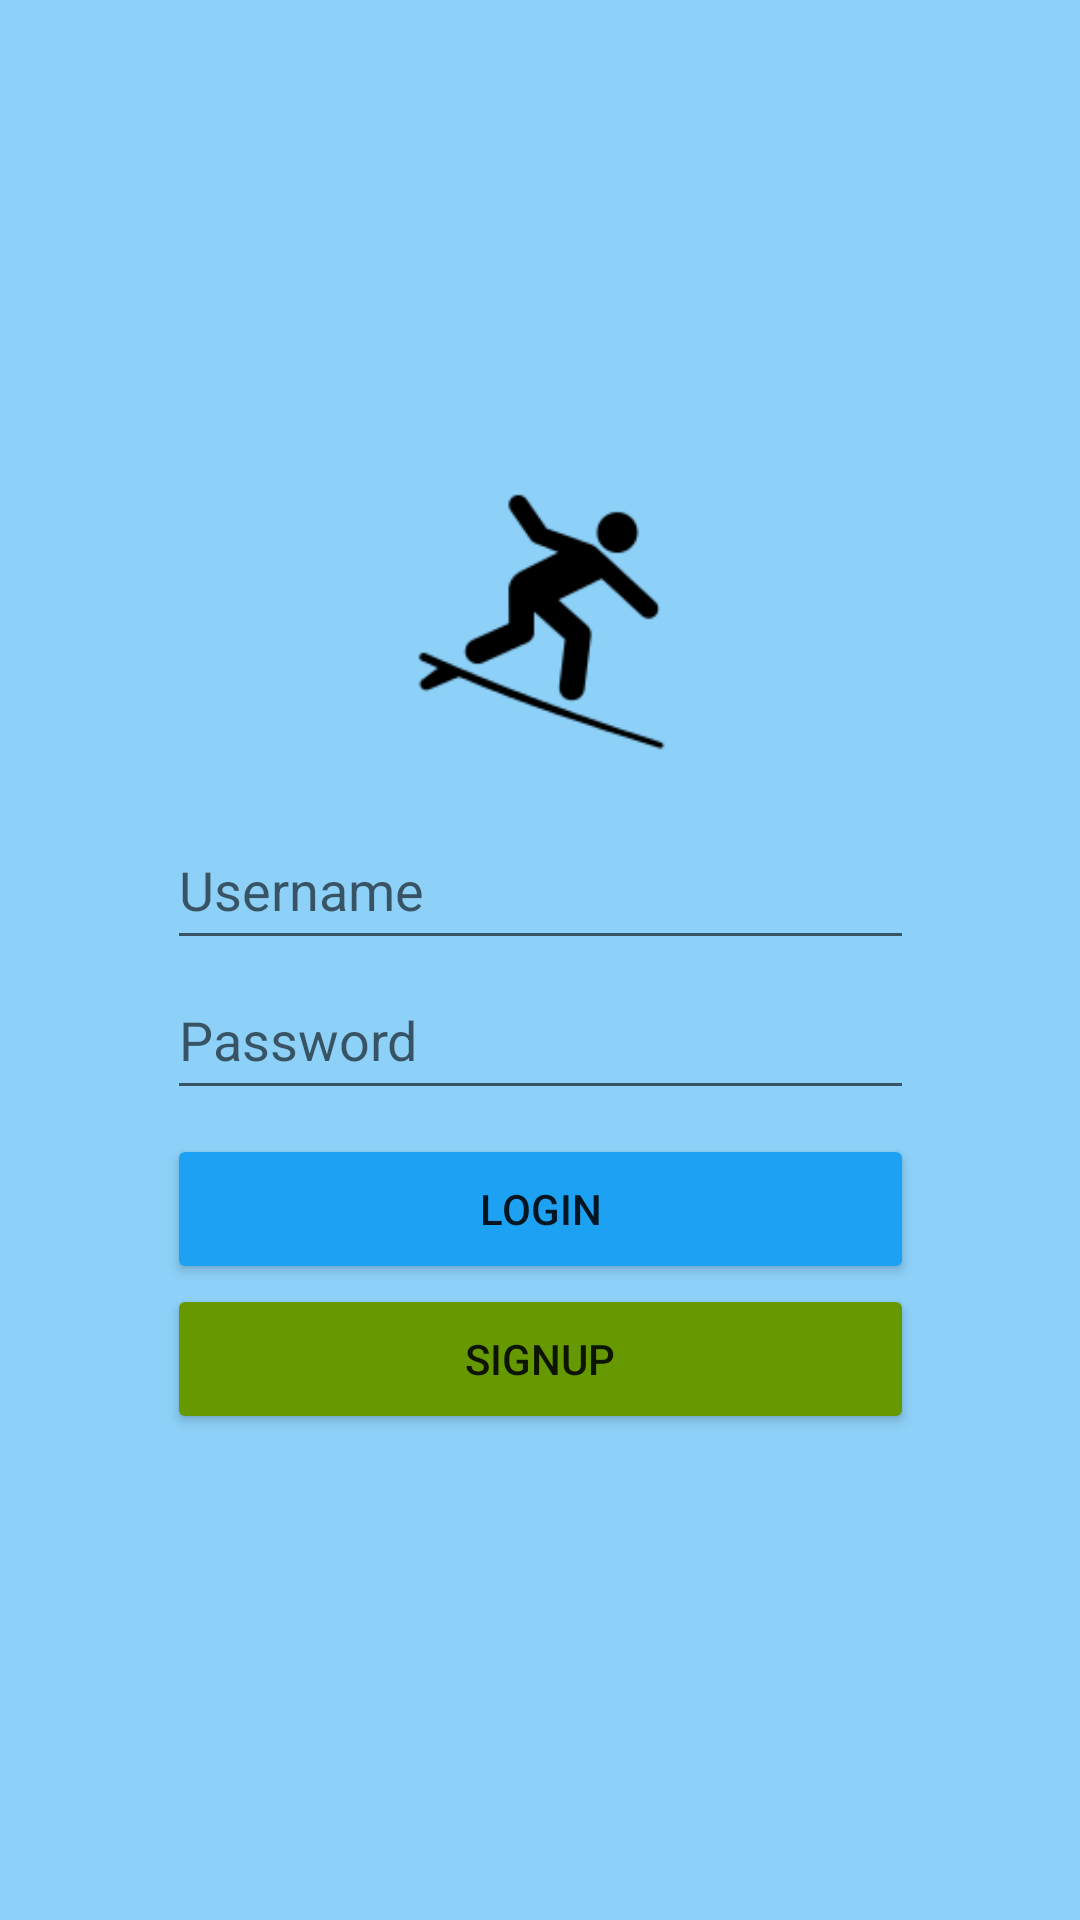

Icons on this 1080 x 1920 Android screen, each with the point to tap as (x,y):
surfer: (541,622)
